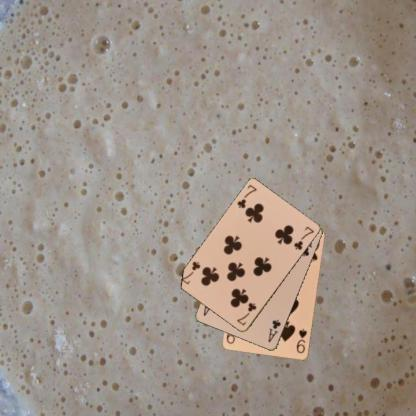7c: (234, 300, 258, 327), (235, 182, 258, 210)
9s: (294, 326, 309, 355)
Ac: (266, 317, 282, 344)
